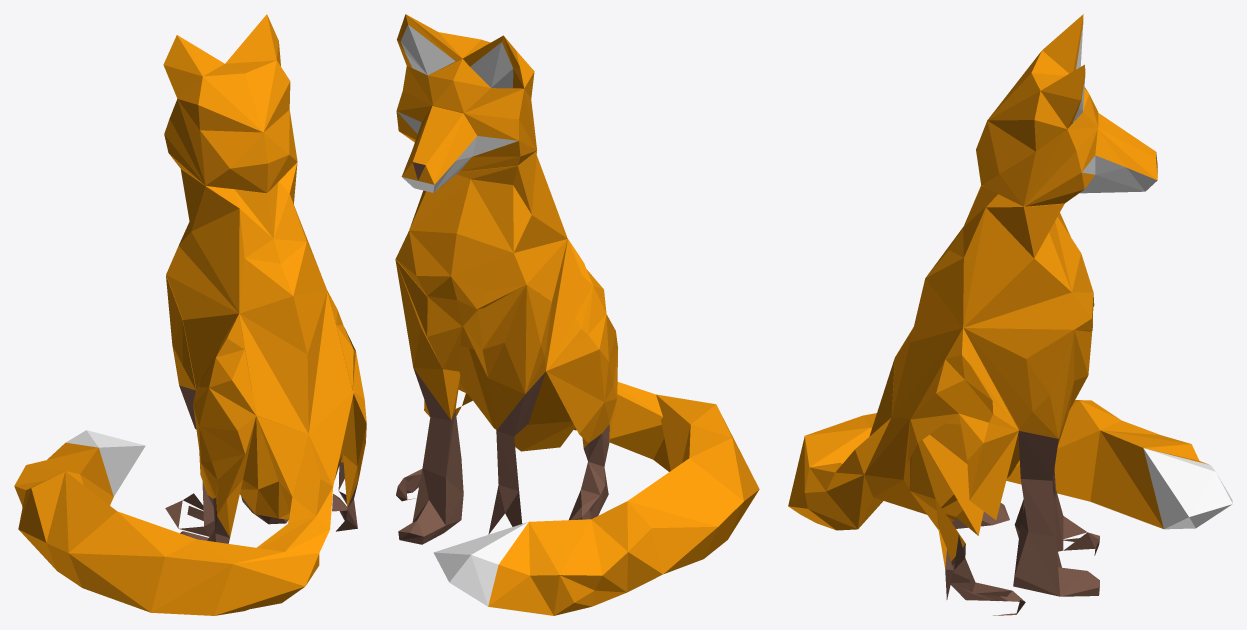
The model's file is Fox.glb.
The picture shows the model from 3 angles, left to right: view 1: azimuth 30°, elevation 25°; view 2: azimuth 150°, elevation 25°; view 3: azimuth 270°, elevation 25°; orthographic projection. The views are drawn at different scales.
Parts seen in each view (by area): view 1: Node; view 2: Node; view 3: Node.
Part boxes in pixels (x1=…): Node: x1=14, y1=14, x2=366, y2=615; Node: x1=395, y1=14, x2=759, y2=615; Node: x1=788, y1=14, x2=1232, y2=615.
Size of the model in its own units: 2.47 by 3.88 by 2.92.
